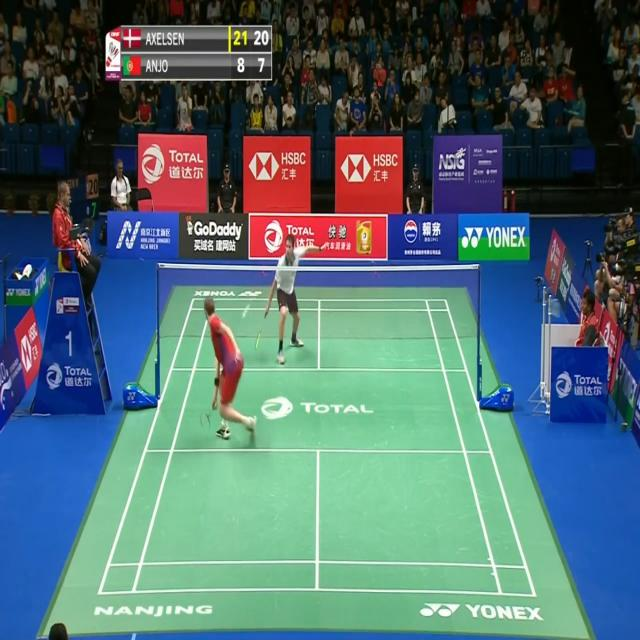Player1: (192, 292, 264, 446)
Player2: (254, 230, 334, 369)
